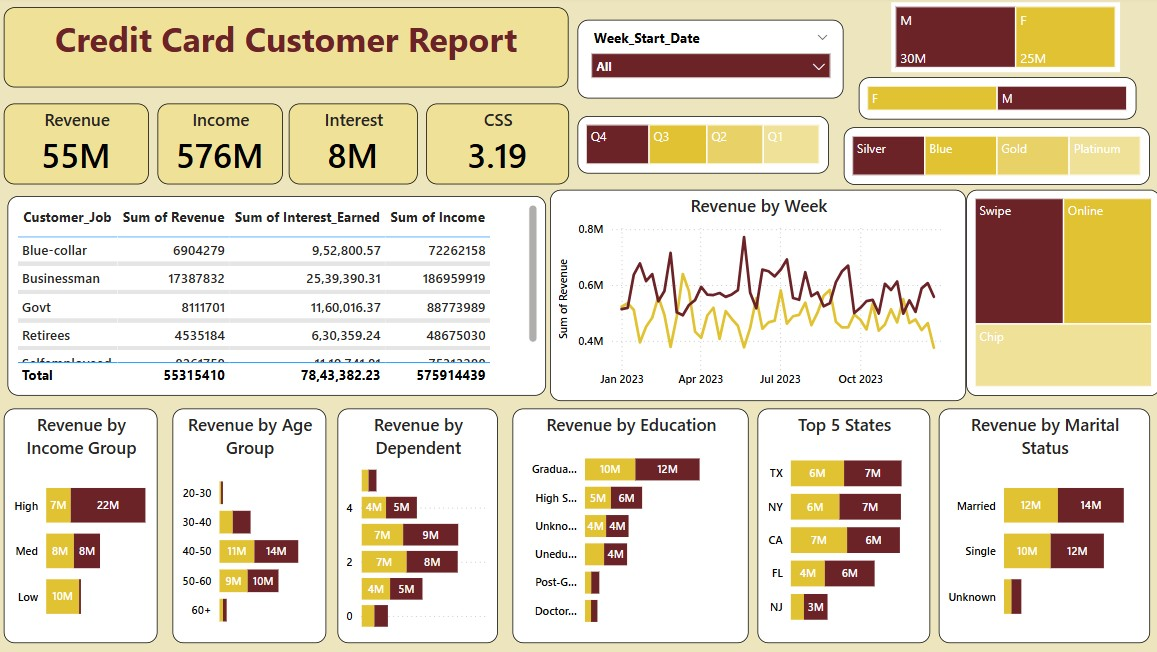

The page's visual inventory and layout, read from the dashboard file:
{"tool":"powerbi","page":{"name":"CC customer","canvas":[1280,720],"ordinal":1},"visuals":[{"type":"textbox","box":[9.6,12.3,620.2,87.8],"z":0},{"type":"barChart","title":"Revenue by Income Group","fields":{"Y":["Sum(credit_card.Revenue)"],"Category":["customer.IncomeGroup"],"Series":["customer.Gender"]},"box":[9.6,452.8,168.8,258],"z":1000},{"type":"tableEx","fields":{"Values":["customer.Customer_Job","Sum(credit_card.Revenue)","Sum(credit_card.Interest_Earned)","Sum(customer.Income)"]},"box":[13.7,219.6,591.4,219.6],"z":2000},{"type":"card","title":"Revenue","fields":{"Values":["Sum(credit_card.Revenue)"]},"box":[9.6,118,159.2,89.2],"z":3000},{"type":"card","title":"Income","fields":{"Values":["Sum(customer.Income)"]},"box":[178.4,118,137.2,89.2],"z":4000},{"type":"card","title":"Interest","fields":{"Values":["Sum(credit_card.Interest_Earned)"]},"box":[322.5,118,141.3,89.2],"z":5000},{"type":"card","title":"CSS","fields":{"Values":["Avg(customer.Cust_Satisfaction_Score)"]},"box":[473.4,118,156.4,89.2],"z":6000},{"type":"slicer","fields":{"Values":["credit_card.Week_Start_Date"]},"box":[639.5,26.1,292.3,86.4],"z":7000},{"type":"treemap","fields":{"Group":["credit_card.Qtr"],"Values":["Avg(credit_card.Client_Num)"]},"box":[639.5,131.7,275.8,63.1],"z":8000},{"type":"treemap","fields":{"Values":["Avg(credit_card.Client_Num)"],"Group":["customer.Gender"]},"box":[948.2,89.2,304.6,46.7],"z":9000},{"type":"treemap","fields":{"Group":["credit_card.Card_Category"],"Values":["Avg(credit_card.Client_Num)"]},"box":[931.7,144.1,336.2,63.1],"z":10000},{"type":"lineChart","title":"Revenue by  Week","fields":{"Y":["Sum(credit_card.Revenue)"],"Series":["customer.Gender"],"Category":["credit_card.Week_Start_Date.Variation.Date Hierarchy.Year","credit_card.Week_Start_Date.Variation.Date Hierarchy.Month","credit_card.Week_Start_Date.Variation.Date Hierarchy.Day"]},"box":[609.3,212.7,456.9,231.9],"z":11000},{"type":"treemap","fields":{"Group":["customer.Gender"],"Values":["Sum(credit_card.Revenue)"]},"box":[983.9,6.9,251.1,76.8],"z":12000},{"type":"barChart","title":"Revenue by Age Group","fields":{"Y":["Sum(credit_card.Revenue)"],"Category":["customer.AgeGroup"],"Series":["customer.Gender"]},"box":[194.9,452.8,168.8,258],"z":13000},{"type":"barChart","title":"Revenue by Dependent","fields":{"Y":["Sum(credit_card.Revenue)"],"Category":["customer.Dependent_Count"],"Series":["customer.Gender"]},"box":[376,452.8,175.6,258],"z":14000},{"type":"barChart","title":"Revenue by Education","fields":{"Y":["Sum(credit_card.Revenue)"],"Category":["customer.Education_Level"],"Series":["customer.Gender"]},"box":[568.1,452.8,259.3,258],"z":15000},{"type":"barChart","title":"Top 5 States","fields":{"Y":["Sum(credit_card.Revenue)"],"Category":["customer.state_cd"],"Series":["customer.Gender"]},"box":[837.1,452.8,189.4,258],"z":16000},{"type":"barChart","title":" Revenue by Marital Status","fields":{"Y":["Sum(credit_card.Revenue)"],"Category":["customer.Marital_Status"],"Series":["customer.Gender"]},"box":[1036,452.8,231.9,258],"z":17000},{"type":"treemap","fields":{"Group":["credit_card.Use Chip"],"Values":["Avg(credit_card.Client_Num)"]},"box":[1066.2,212.7,214.1,226.4],"z":18000}]}

Visuals, with their boxes in screenshot pixels (x1, y1, x2, y2), scaled from the page's 1280x720 canvas onto the 1157x652 screenshot:
textbox: <bbox>9, 11, 569, 91</bbox>
"Revenue by Income Group" barChart: <bbox>9, 410, 161, 644</bbox>
tableEx - customer.Customer_Job x Sum(credit_card.Revenue): <bbox>12, 199, 547, 398</bbox>
"Revenue" card: <bbox>9, 107, 153, 188</bbox>
"Income" card: <bbox>161, 107, 285, 188</bbox>
"Interest" card: <bbox>292, 107, 419, 188</bbox>
"CSS" card: <bbox>428, 107, 569, 188</bbox>
slicer - credit_card.Week_Start_Date: <bbox>578, 24, 842, 102</bbox>
treemap - credit_card.Qtr x Avg(credit_card.Client_Num): <bbox>578, 119, 827, 176</bbox>
treemap - Avg(credit_card.Client_Num) x customer.Gender: <bbox>857, 81, 1132, 123</bbox>
treemap - credit_card.Card_Category x Avg(credit_card.Client_Num): <bbox>842, 130, 1146, 188</bbox>
"Revenue by  Week" lineChart: <bbox>551, 193, 964, 403</bbox>
treemap - customer.Gender x Sum(credit_card.Revenue): <bbox>889, 6, 1116, 76</bbox>
"Revenue by Age Group" barChart: <bbox>176, 410, 329, 644</bbox>
"Revenue by Dependent" barChart: <bbox>340, 410, 499, 644</bbox>
"Revenue by Education" barChart: <bbox>514, 410, 748, 644</bbox>
"Top 5 States" barChart: <bbox>757, 410, 928, 644</bbox>
" Revenue by Marital Status" barChart: <bbox>936, 410, 1146, 644</bbox>
treemap - credit_card.Use Chip x Avg(credit_card.Client_Num): <bbox>964, 193, 1156, 398</bbox>
